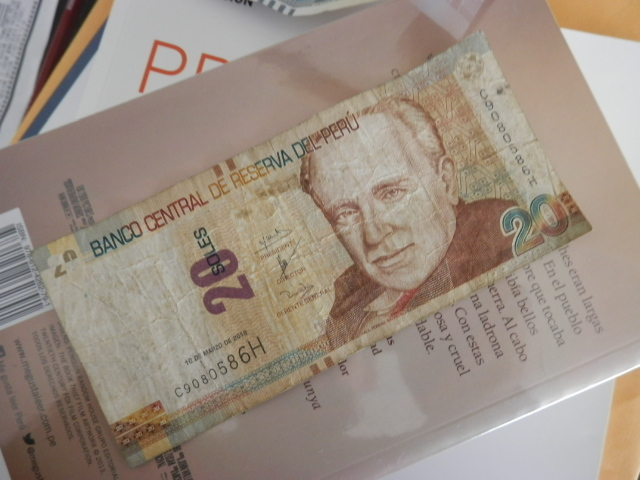B20: (49, 93, 591, 433)
